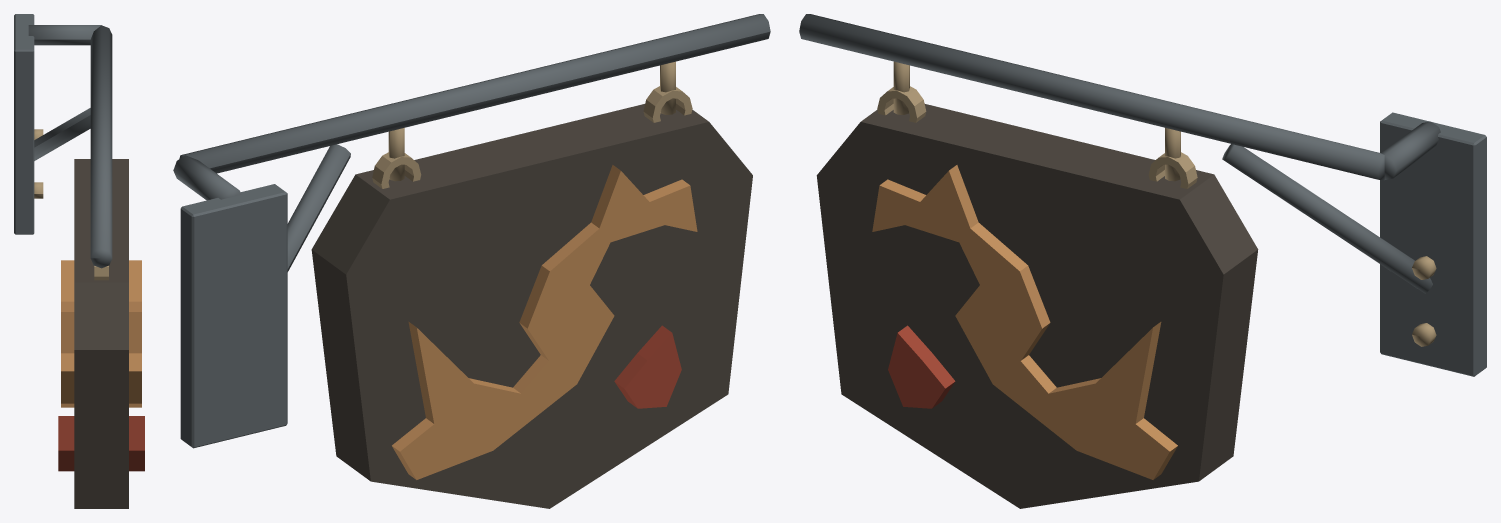
The model's file is yokocho-dragon-ember-sign.glb.
3 renders of one model, left to right at view 1: azimuth 30°, elevation 25°; view 2: azimuth 150°, elevation 25°; view 3: azimuth 270°, elevation 25°, orthographic. The views are drawn at different scales.
Visible parts, largest first — view 1: Shops/S01/ProjectingSigns/DragonEmberAssembly__Food_Charcoal, Shops/S01/ProjectingSigns/DragonEmberAssembly__Iron, Shops/S01/ProjectingSigns/DragonEmberAssembly__Food_Copper, Shops/S01/ProjectingSigns/DragonEmberAssembly__Food_Oxblood, Shops/S01/ProjectingSigns/DragonEmberAssembly__Bronze; view 2: Shops/S01/ProjectingSigns/DragonEmberAssembly__Food_Charcoal, Shops/S01/ProjectingSigns/DragonEmberAssembly__Iron, Shops/S01/ProjectingSigns/DragonEmberAssembly__Food_Copper, Shops/S01/ProjectingSigns/DragonEmberAssembly__Food_Oxblood, Shops/S01/ProjectingSigns/DragonEmberAssembly__Bronze; view 3: Shops/S01/ProjectingSigns/DragonEmberAssembly__Food_Charcoal, Shops/S01/ProjectingSigns/DragonEmberAssembly__Iron, Shops/S01/ProjectingSigns/DragonEmberAssembly__Food_Copper, Shops/S01/ProjectingSigns/DragonEmberAssembly__Bronze, Shops/S01/ProjectingSigns/DragonEmberAssembly__Food_Oxblood.
Boxes of the visible parts, x1,y1,x2,y2 form: Shops/S01/ProjectingSigns/DragonEmberAssembly__Food_Charcoal: [74, 159, 128, 508]; Shops/S01/ProjectingSigns/DragonEmberAssembly__Iron: [14, 14, 112, 268]; Shops/S01/ProjectingSigns/DragonEmberAssembly__Food_Copper: [61, 260, 141, 407]; Shops/S01/ProjectingSigns/DragonEmberAssembly__Food_Oxblood: [58, 416, 144, 471]; Shops/S01/ProjectingSigns/DragonEmberAssembly__Bronze: [34, 129, 108, 280]; Shops/S01/ProjectingSigns/DragonEmberAssembly__Food_Charcoal: [311, 104, 752, 508]; Shops/S01/ProjectingSigns/DragonEmberAssembly__Iron: [173, 14, 770, 448]; Shops/S01/ProjectingSigns/DragonEmberAssembly__Food_Copper: [392, 165, 697, 479]; Shops/S01/ProjectingSigns/DragonEmberAssembly__Food_Oxblood: [614, 325, 681, 408]; Shops/S01/ProjectingSigns/DragonEmberAssembly__Bronze: [372, 61, 692, 188]; Shops/S01/ProjectingSigns/DragonEmberAssembly__Food_Charcoal: [816, 104, 1258, 508]; Shops/S01/ProjectingSigns/DragonEmberAssembly__Iron: [799, 14, 1486, 376]; Shops/S01/ProjectingSigns/DragonEmberAssembly__Food_Copper: [872, 165, 1177, 479]; Shops/S01/ProjectingSigns/DragonEmberAssembly__Bronze: [877, 61, 1436, 346]; Shops/S01/ProjectingSigns/DragonEmberAssembly__Food_Oxblood: [888, 325, 955, 408].
Bounding box in the file's own units: 0.3905 × 0.51 × 0.7463.
